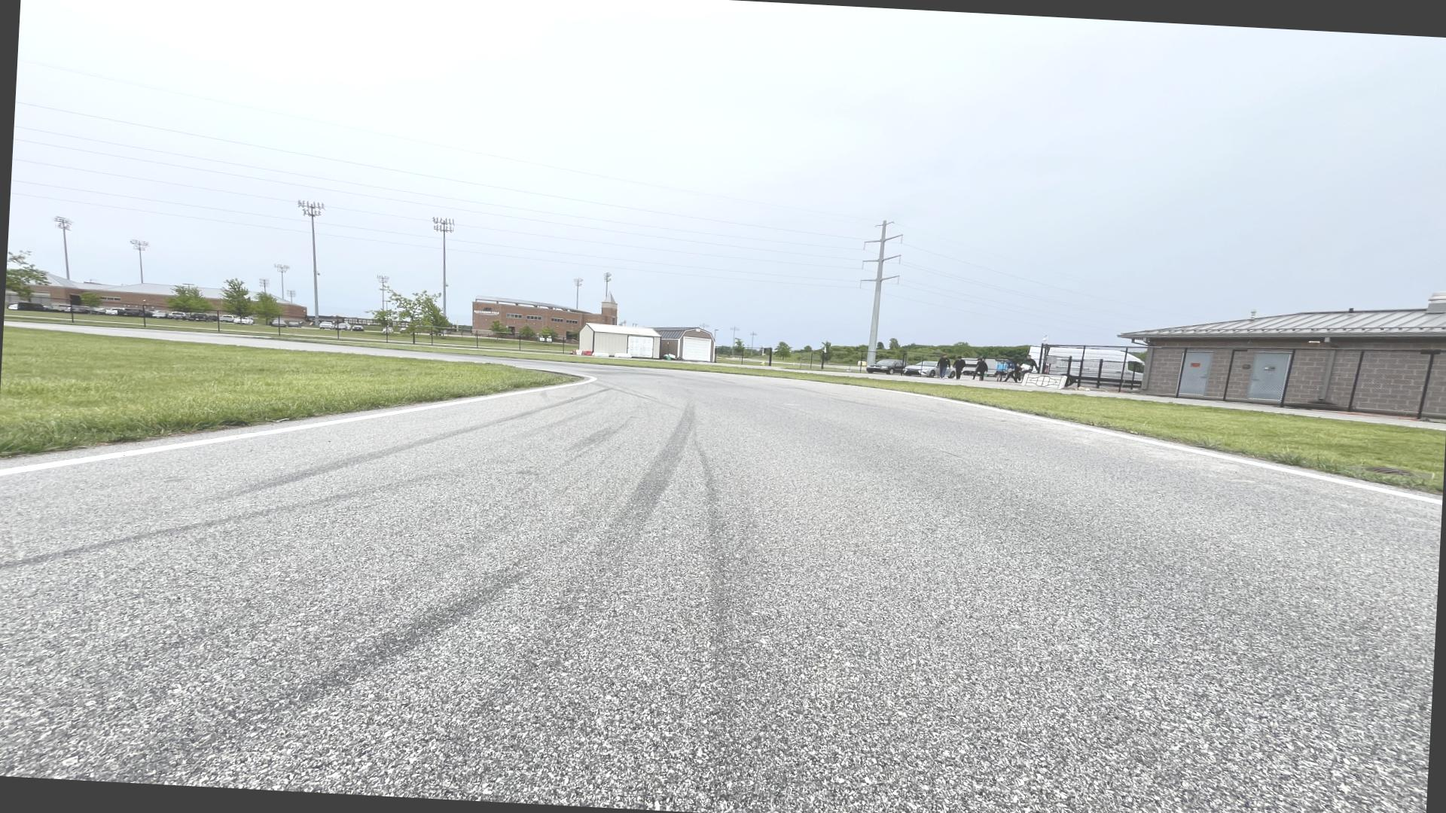white-line: (798, 381, 1441, 505), (0, 366, 598, 477)
